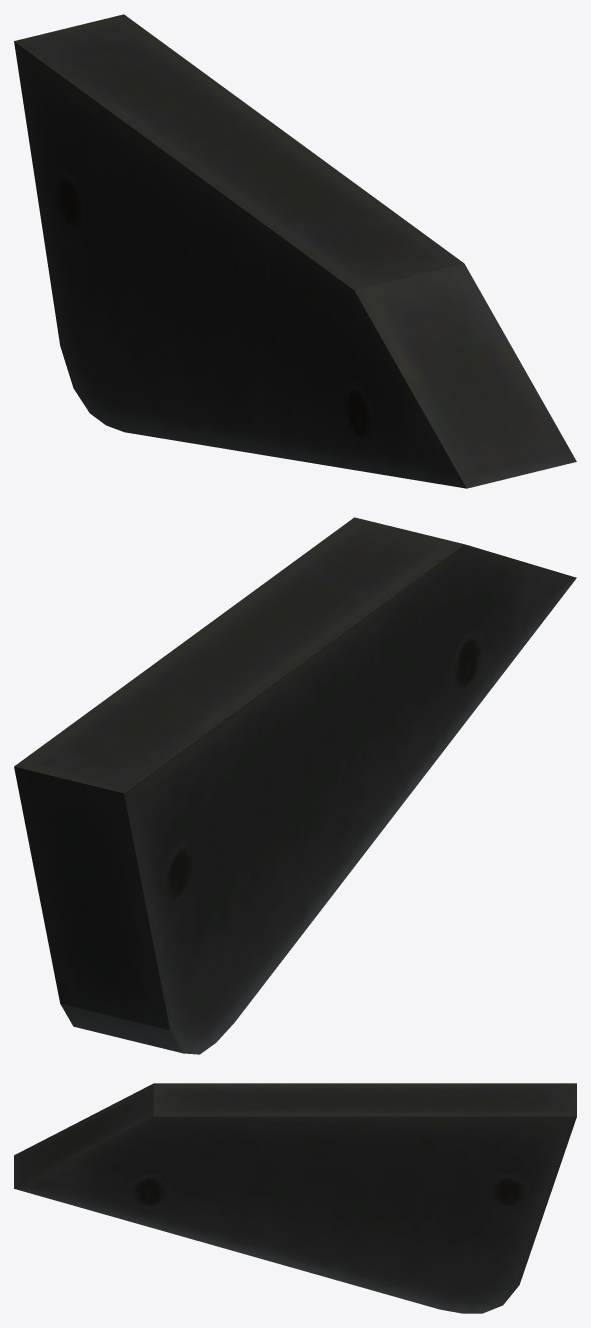
3 views of the same model, one above another, from view 1: azimuth 30°, elevation 25°; view 2: azimuth 150°, elevation 25°; view 3: azimuth 270°, elevation 25° (orthographic). The views are drawn at different scales.
Visible parts, largest first — view 1: TW_619f4d304c58466fe1228437_PZ_Import; view 2: TW_619f4d304c58466fe1228437_PZ_Import; view 3: TW_619f4d304c58466fe1228437_PZ_Import.
Boxes of the visible parts, <box> form: TW_619f4d304c58466fe1228437_PZ_Import: <box>14,14,576,488</box>; TW_619f4d304c58466fe1228437_PZ_Import: <box>14,517,576,1054</box>; TW_619f4d304c58466fe1228437_PZ_Import: <box>14,1083,576,1313</box>.
Bounding box in the file's own units: 0.00161 × 0.0115 × 0.00444.
1 material, 1 textured.
